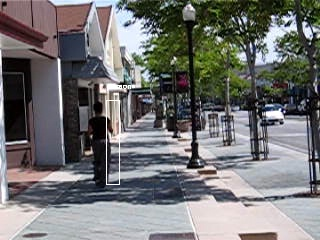person: (87, 103, 114, 189), (86, 103, 113, 189), (88, 103, 115, 189), (87, 102, 114, 188), (87, 104, 114, 190)
target_negative: (94, 46, 259, 207), (76, 17, 162, 161), (51, 147, 271, 190), (158, 67, 215, 178), (262, 141, 315, 218), (84, 153, 185, 180)
